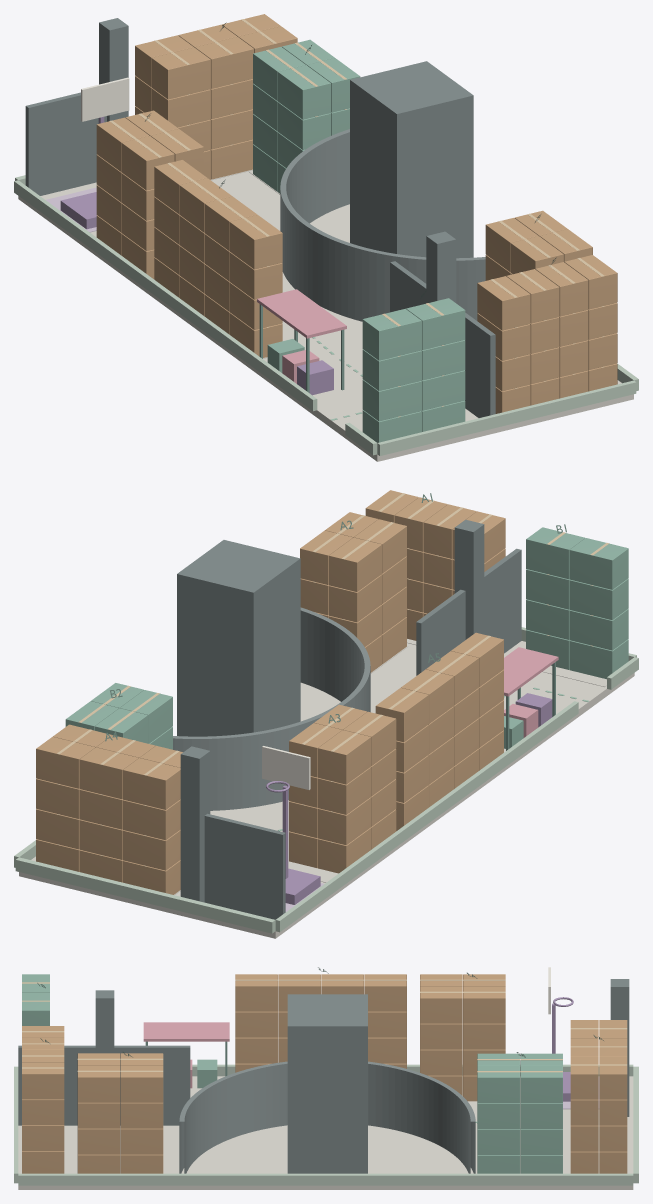
File: warehouse-floor-layout.glb
The picture shows the model from 3 angles, top to bottom: view 1: azimuth 30°, elevation 25°; view 2: azimuth 150°, elevation 25°; view 3: azimuth 270°, elevation 25°; orthographic projection. The views are drawn at different scales.
Visible parts, largest first — view 1: EXISTING_column, EXISTING_CURVED_ENCLOSURE_cutaway, ROOM_FLOOR_3540x8585, EXISTING_brace-bottom, Existing_wall_cutaway_4, EXISTING_divider, Existing_wall_cutaway_0, A4_shipment_carton_19, B1_shipment_carton_7, INSPECTION_WORKTOP, B2_shipment_carton_13, A1_shipment_carton_13 (+70 smaller); view 2: EXISTING_column, EXISTING_CURVED_ENCLOSURE_cutaway, ROOM_FLOOR_3540x8585, EXISTING_brace-bottom, EXISTING_divider, Existing_wall_cutaway_4, EXISTING_post-bottom, Existing_wall_cutaway_2, EXISTING_post-top, B1_shipment_carton_7, A4_shipment_carton_22, A3_shipment_carton_15 (+67 smaller); view 3: EXISTING_column, EXISTING_CURVED_ENCLOSURE_cutaway, ROOM_FLOOR_3540x8585, Existing_wall_cutaway_1, EXISTING_divider, INSPECTION_WORKTOP, A1_shipment_carton_16, A2_shipment_carton_14, A2_shipment_carton_16, A3_shipment_carton_14, A3_shipment_carton_16, A5_shipment_carton_13 (+61 smaller).
Part boxes in pixels (bbox=[...]): EXISTING_column: bbox=[350, 61, 473, 258]; EXISTING_CURVED_ENCLOSURE_cutaway: bbox=[280, 129, 485, 321]; ROOM_FLOOR_3540x8585: bbox=[18, 170, 633, 461]; EXISTING_brace-bottom: bbox=[25, 92, 106, 195]; Existing_wall_cutaway_4: bbox=[14, 180, 317, 411]; EXISTING_divider: bbox=[390, 261, 495, 417]; Existing_wall_cutaway_0: bbox=[377, 380, 636, 455]; A4_shipment_carton_19: bbox=[151, 47, 210, 99]; B1_shipment_carton_7: bbox=[362, 308, 421, 360]; INSPECTION_WORKTOP: bbox=[257, 289, 346, 338]; B2_shipment_carton_13: bbox=[278, 65, 331, 119]; A1_shipment_carton_13: bbox=[477, 276, 530, 330]; EXISTING_column: bbox=[177, 540, 300, 736]; EXISTING_CURVED_ENCLOSURE_cutaway: bbox=[173, 607, 370, 810]; ROOM_FLOOR_3540x8585: bbox=[19, 641, 634, 938]; EXISTING_brace-bottom: bbox=[204, 813, 285, 919]; EXISTING_divider: bbox=[416, 548, 521, 675]; Existing_wall_cutaway_4: bbox=[275, 701, 578, 932]; EXISTING_post-bottom: bbox=[180, 746, 210, 902]; Existing_wall_cutaway_2: bbox=[15, 857, 275, 933]; EXISTING_post-top: bbox=[454, 519, 484, 639]; B1_shipment_carton_7: bbox=[569, 538, 628, 589]; A4_shipment_carton_22: bbox=[123, 758, 180, 809]; A3_shipment_carton_15: bbox=[318, 730, 370, 784]; EXISTING_column: bbox=[287, 994, 367, 1173]; EXISTING_CURVED_ENCLOSURE_cutaway: bbox=[179, 1061, 475, 1173]; ROOM_FLOOR_3540x8585: bbox=[18, 1076, 633, 1189]; Existing_wall_cutaway_1: bbox=[18, 1173, 633, 1185]; EXISTING_divider: bbox=[18, 1045, 190, 1125]; INSPECTION_WORKTOP: bbox=[143, 1022, 229, 1041]; A1_shipment_carton_16: bbox=[22, 1062, 64, 1099]; A2_shipment_carton_14: bbox=[77, 1065, 120, 1102]; A2_shipment_carton_16: bbox=[120, 1065, 163, 1102]; A3_shipment_carton_14: bbox=[420, 986, 462, 1023]; A3_shipment_carton_16: bbox=[463, 986, 505, 1023]; A5_shipment_carton_13: bbox=[235, 974, 277, 1011].
Bounding box in the file's own units: 3.67 × 2.5 × 8.72.
